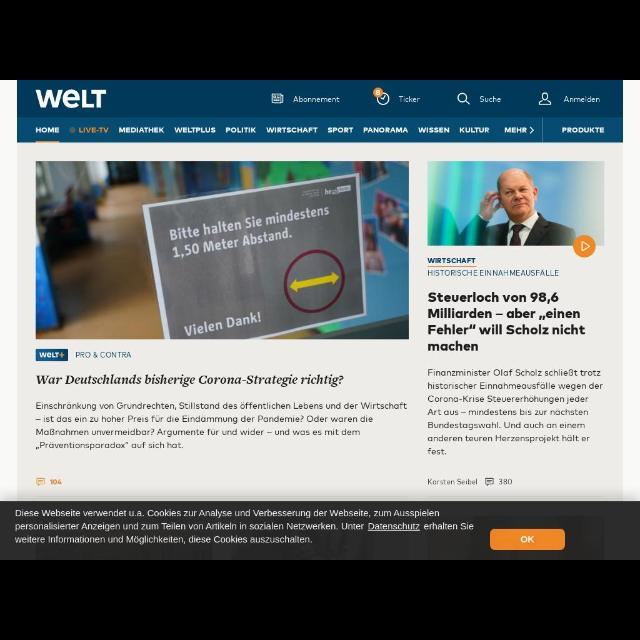icon: (574, 236, 594, 258), (374, 89, 391, 108), (270, 92, 284, 104), (538, 94, 552, 106), (456, 94, 469, 106), (483, 477, 495, 488), (35, 476, 47, 486), (69, 128, 75, 134)
iframe: (0, 502, 638, 558)
image: (36, 162, 408, 340), (428, 162, 606, 246), (36, 88, 108, 110), (37, 346, 69, 362)
link: (367, 522, 423, 534)
multitab: (17, 117, 623, 143)
spinner: (504, 126, 536, 136), (528, 130, 534, 136)
text: (35, 403, 407, 453), (427, 367, 606, 457), (14, 508, 476, 542), (430, 290, 588, 352), (37, 376, 343, 388), (426, 270, 560, 276), (429, 477, 479, 488), (76, 350, 130, 360), (68, 124, 110, 136), (266, 126, 318, 134), (174, 125, 216, 134), (294, 96, 340, 104), (118, 126, 164, 134), (362, 126, 408, 134), (563, 126, 607, 134), (428, 258, 477, 264), (564, 96, 600, 104), (418, 126, 449, 134), (226, 126, 256, 134), (459, 126, 488, 134), (34, 126, 60, 134), (502, 127, 528, 135), (479, 96, 501, 104), (400, 96, 420, 104), (328, 128, 354, 134), (506, 128, 526, 134), (498, 478, 512, 486), (520, 536, 534, 544), (51, 478, 61, 486)
textbutton: (490, 526, 568, 552)
toolbar: (16, 80, 624, 118)
